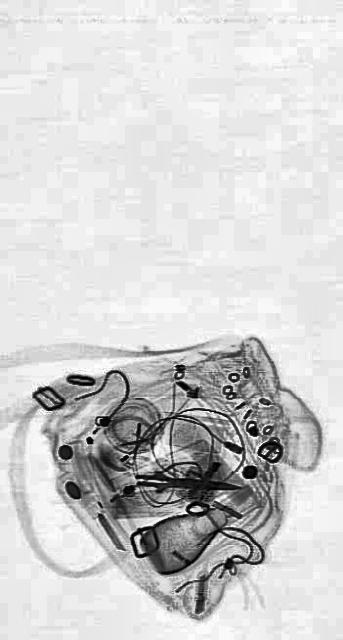Knife: (135, 468, 241, 498)
